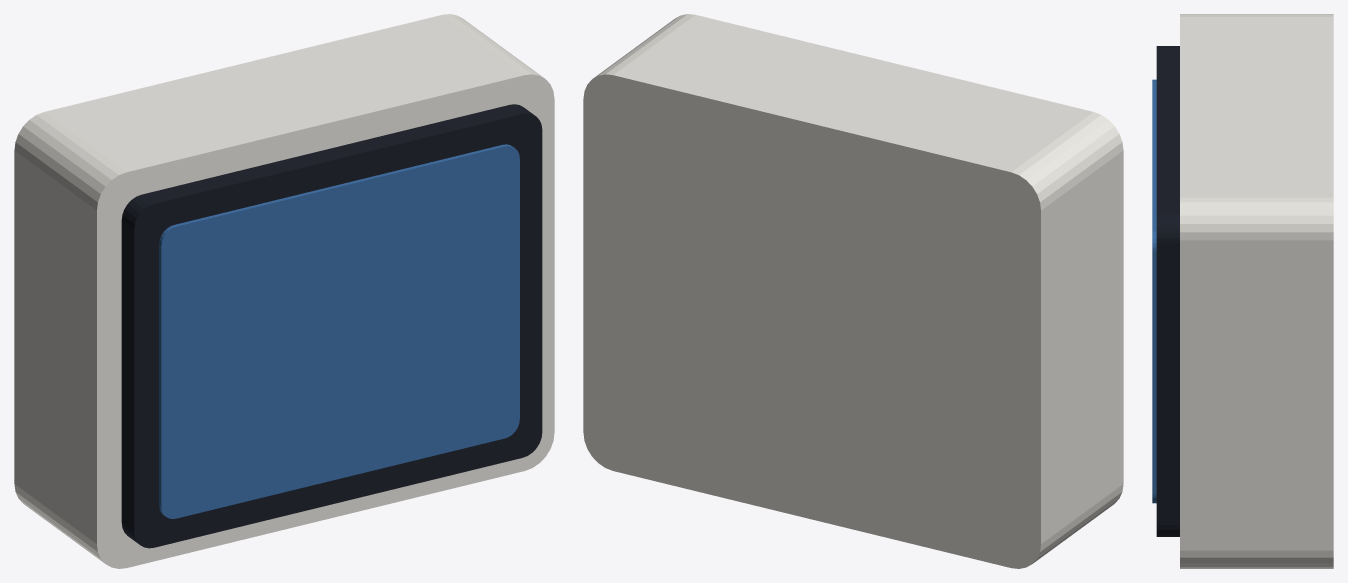
Rendered from device.canary-display-touch169.glb.
The picture shows the model from 3 angles, left to right: view 1: azimuth 30°, elevation 25°; view 2: azimuth 150°, elevation 25°; view 3: azimuth 270°, elevation 25°; orthographic projection. The views are drawn at different scales.
Bounding box in the file's own units: 0.0461 × 0.0381 × 0.017.
